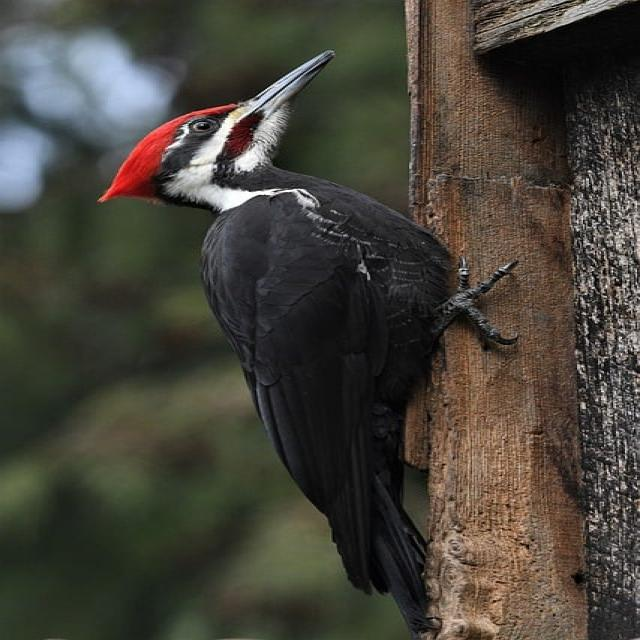Woodpecker: (108, 54, 460, 604)
